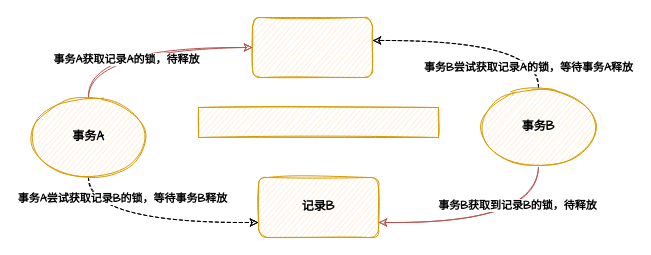
This 651x255 diagram has some shape labels left out. Each missing label, with the centre of its shape:
"两个事务都在等待各自锁的释放，导致发送死锁。" goes at point 318,122.
"记录A" goes at point 312,47.
